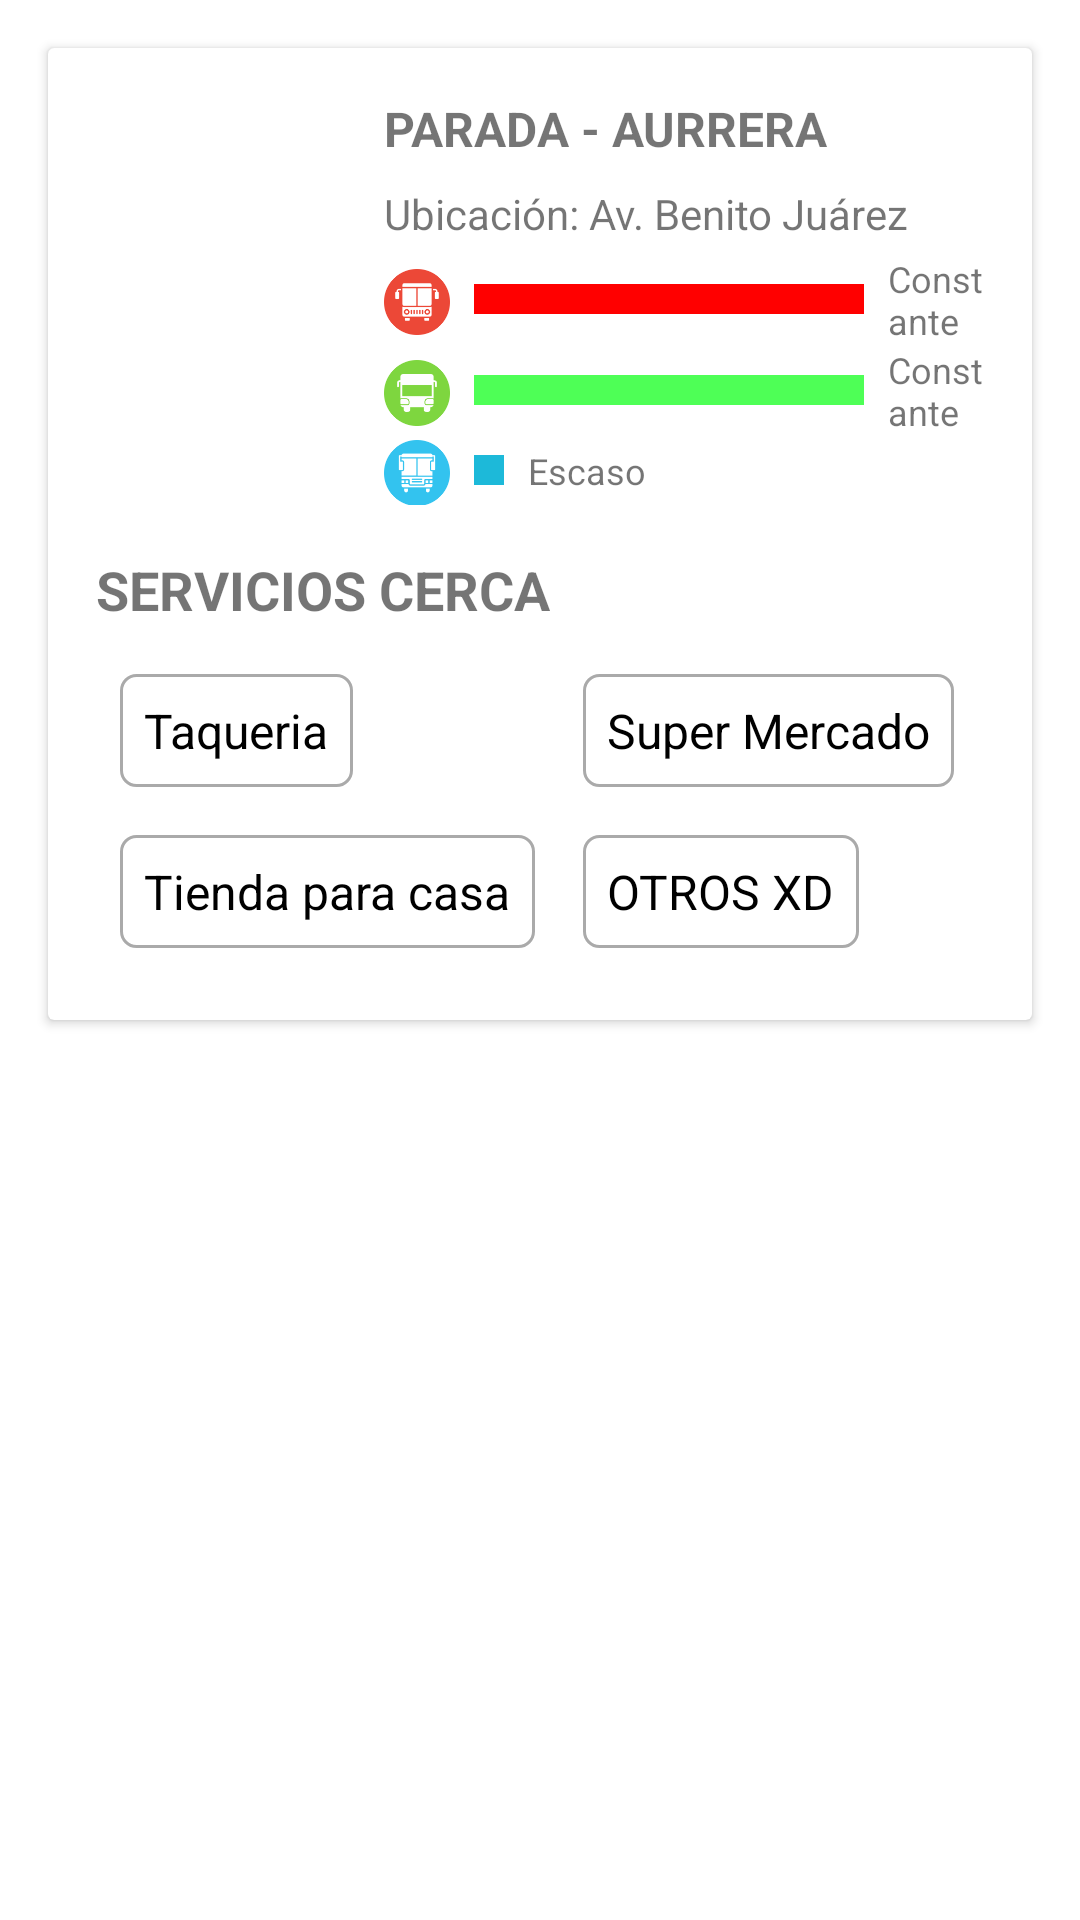

Screen size 1080x1920. Icon name, then its box in pixels as (x1, y1, x2, y2):
azules: (384, 440, 450, 505)
rojas: (384, 269, 450, 335)
verdes: (384, 360, 450, 426)
